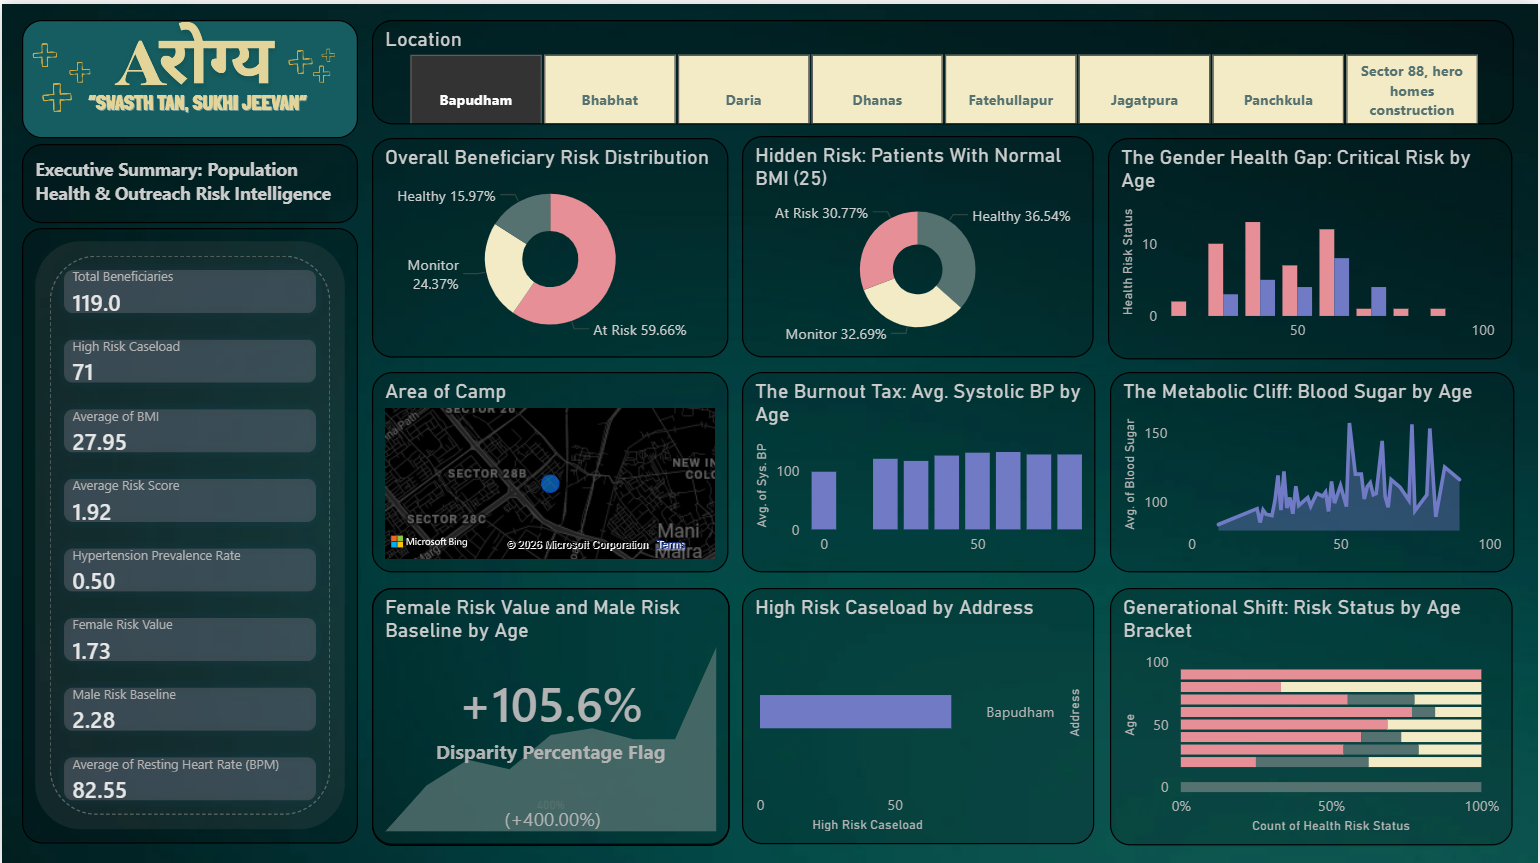

This screenshot's page, from the dashboard's own definition file:
{"tool":"powerbi","page":{"name":"Page 1","canvas":[1280,720],"ordinal":0},"visuals":[{"type":"donutChart","title":"Overall Beneficiary Risk Distribution","fields":{"Category":["Sheet1.Health Risk Status"],"Y":["CountNonNull(Sheet1.Health Risk Status)"]},"box":[308.6,111.4,297.1,182.9],"z":0},{"type":"hundredPercentStackedBarChart","title":"Generational Shift: Risk Status by Age Bracket","fields":{"Category":["Sheet1.Age (bins)"],"Y":["CountNonNull(Sheet1.Health Risk Status)"],"Series":["Sheet1.Health Risk Status"]},"box":[922.7,486.4,335.5,214.5],"z":1000},{"type":"lineChart","title":"The Metabolic Cliff: Blood Sugar by Age","fields":{"Category":["Sheet1.Age"],"Y":["Avg(Sheet1.Blood Sugar)"]},"box":[922.9,307.1,337.1,167.1],"z":2000},{"type":"clusteredColumnChart","title":"The Gender Health Gap: Critical Risk by Age","fields":{"Category":["Sheet1.Age (bins)"],"Series":["Sheet1.Gender"],"Y":["CountNonNull(Sheet1.Health Risk Status)"]},"box":[921.4,111.4,337.1,184.3],"z":3000},{"type":"slicer","title":"Location","fields":{"Values":["Sheet1.Address"]},"box":[308.6,12.9,951.4,87],"z":4000},{"type":"map","title":"Area of Camp","fields":{"Y":["Sheet1 (4).Latitude"],"X":["Sheet1 (4).Longitute"],"Size":["CountNonNull(Sheet1.Health Risk Status)"]},"box":[308.6,307.1,297.1,167.1],"z":5000},{"type":"donutChart","title":"Hidden Risk: Patients With Normal BMI (25)","fields":{"Category":["Sheet1.Health Risk Status"],"Y":["CountNonNull(Sheet1.Health Risk Status)"]},"box":[616.7,110,292.9,184.3],"z":6000},{"type":"clusteredColumnChart","title":"The Burnout Tax: Avg. Systolic BP by Age","fields":{"Category":["Sheet1.Age (bins)"],"Y":["Avg(Sheet1.Systolic BP)"]},"box":[617.1,307.1,294.3,167.1],"z":7000},{"type":"cardVisual","fields":{"Data":["_Calculated Measures.'Total_Beneficiaries'","_Calculated Measures.High_Risk_Caseload","Avg(Sheet1 (4).BMI)","_Calculated Measures.Avg_Risk_Score","_Calculated Measures.Hypertension_Prevalence_Rate","_Calculated Measures.Female_Risk_Value","_Calculated Measures.Male_Risk_Baseline","Avg(Sheet1 (4).Resting Heart Rate (BPM))"]},"box":[17.1,187.1,280,512.9],"z":8000},{"type":"image","box":[16.7,13.3,280,98.3],"z":9000},{"type":"kpi","title":"Female Risk Value and Male Risk Baseline by Age","fields":{"Goal":["_Calculated Measures.Male Risk Baseline"],"Indicator":["_Calculated Measures.Female Risk Value"],"TrendLine":["Sheet1.Age (bins)"]},"box":[308,486,298,214],"z":10000},{"type":"clusteredBarChart","fields":{"Category":["Sheet1.Address"],"Y":["_Calculated Measures.High Risk Caseload"]},"box":[617.3,486.4,293.6,213.6],"z":11000},{"type":"textbox","box":[16.7,116.7,280,66],"z":12000},{"type":"cardVisual","fields":{"Data":["_Calculated Measures.Disparity Percentage Flag"]},"box":[308,486,298,215],"z":13000}]}

Visuals, with their boxes in screenshot pixels (x1, y1, x2, y2), scaled from the page's 1280x720 canvas onto the 1540x863 screenshot:
"Overall Beneficiary Risk Distribution" donutChart: x1=371 y1=134 x2=729 y2=353
"Generational Shift: Risk Status by Age Bracket" hundredPercentStackedBarChart: x1=1110 y1=583 x2=1514 y2=840
"The Metabolic Cliff: Blood Sugar by Age" lineChart: x1=1110 y1=368 x2=1516 y2=568
"The Gender Health Gap: Critical Risk by Age" clusteredColumnChart: x1=1109 y1=134 x2=1514 y2=354
"Location" slicer: x1=371 y1=15 x2=1516 y2=120
"Area of Camp" map: x1=371 y1=368 x2=729 y2=568
"Hidden Risk: Patients With Normal BMI (25)" donutChart: x1=742 y1=132 x2=1094 y2=353
"The Burnout Tax: Avg. Systolic BP by Age" clusteredColumnChart: x1=742 y1=368 x2=1097 y2=568
cardVisual - _Calculated Measures.'Total_Beneficiaries' x _Calculated Measures.High_Risk_Caseload: x1=21 y1=224 x2=357 y2=839
image: x1=20 y1=16 x2=357 y2=134
"Female Risk Value and Male Risk Baseline by Age" kpi: x1=371 y1=583 x2=729 y2=839
clusteredBarChart - Sheet1.Address x _Calculated Measures.High Risk Caseload: x1=743 y1=583 x2=1096 y2=839
textbox: x1=20 y1=140 x2=357 y2=219
cardVisual - _Calculated Measures.Disparity Percentage Flag: x1=371 y1=583 x2=729 y2=840
